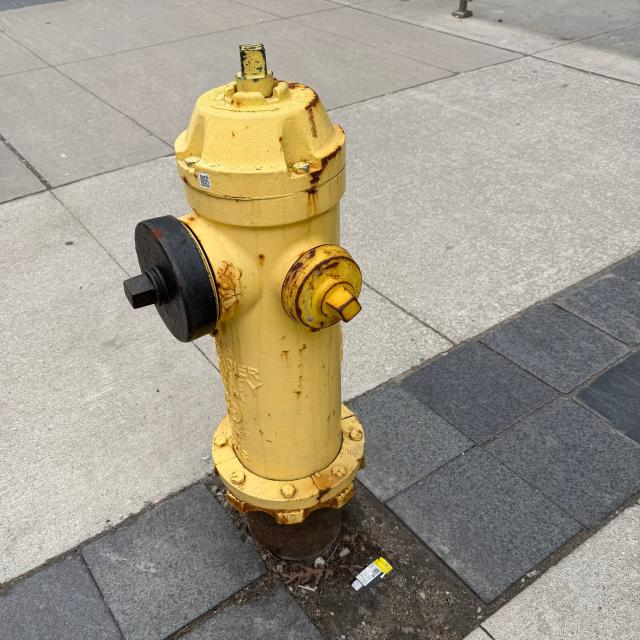Fire hydrant: (123, 43, 363, 525)
